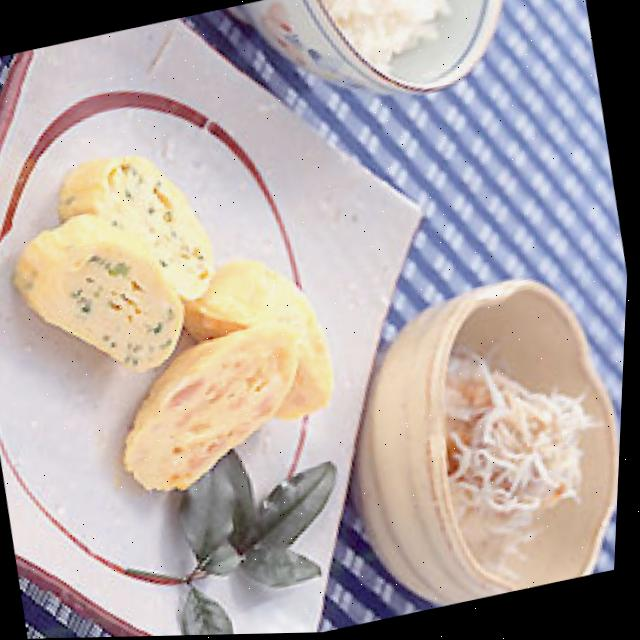鸡蛋料理: (0, 93, 376, 529)
